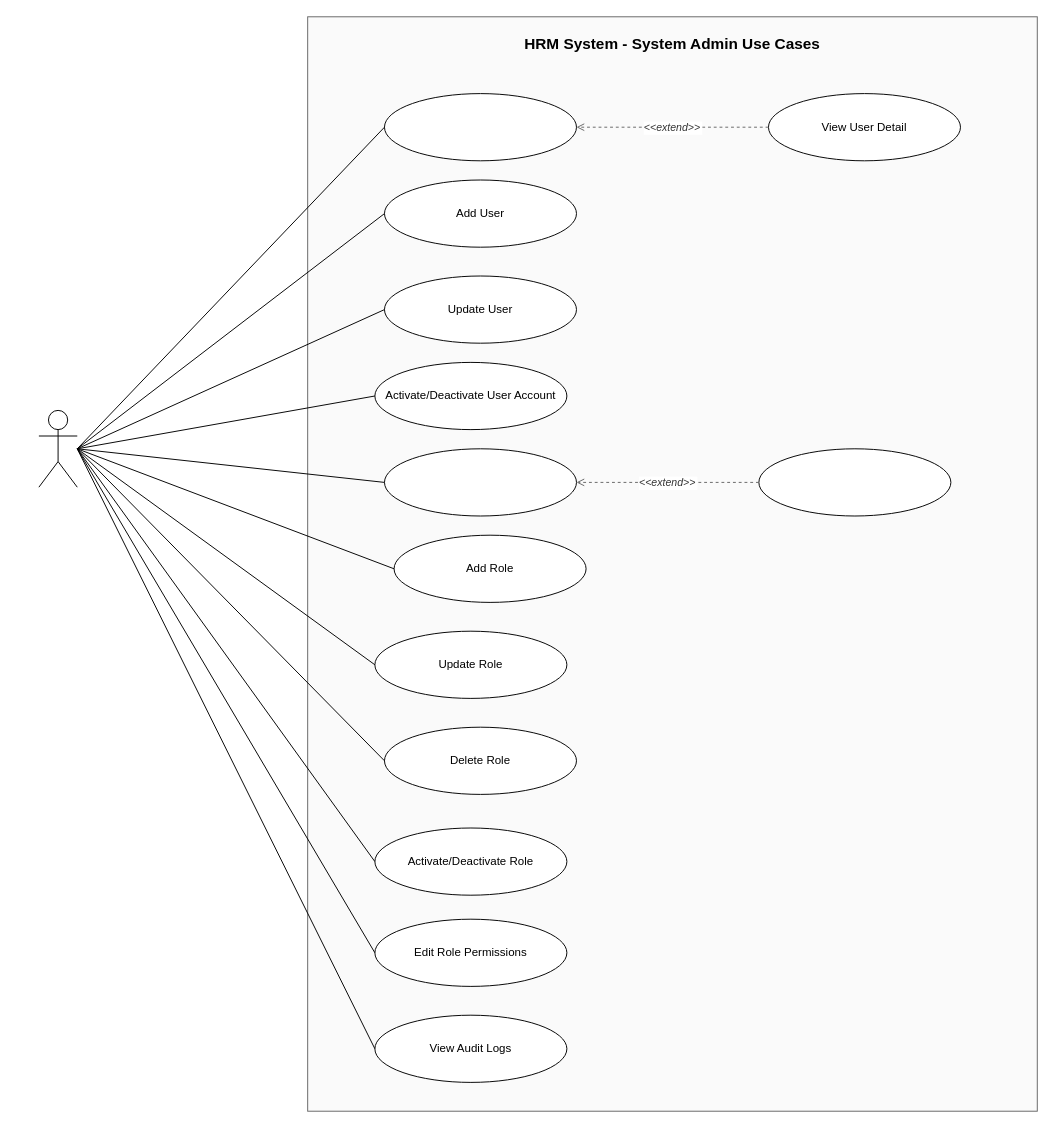
Image size: 1054x1128. Some labels were removed from this diagram. The shapes that lost their labels are listed below. From the top down, each one's centre as x and y in pixels, then its label:
At (x=480, y=127): "View User List".
At (x=57, y=448): "SystemAdmin".
At (x=480, y=482): "View Role List".
At (x=854, y=482): "View Role Detail".
